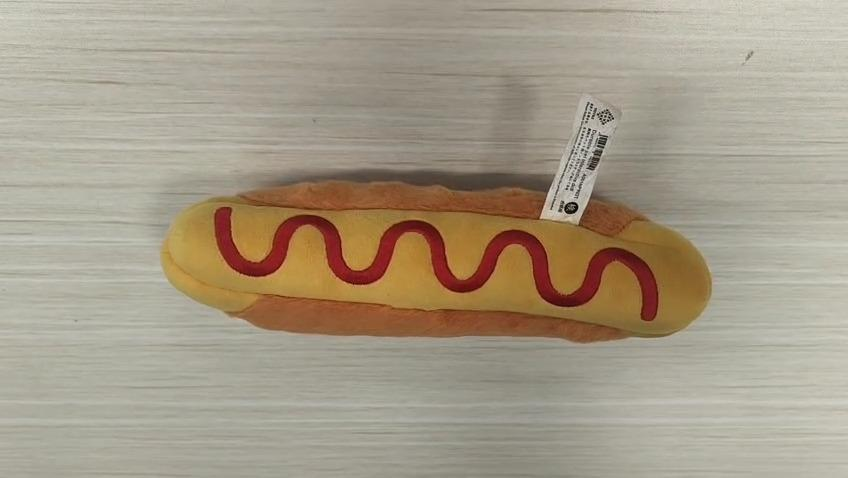hotdog: (159, 178, 713, 342)
